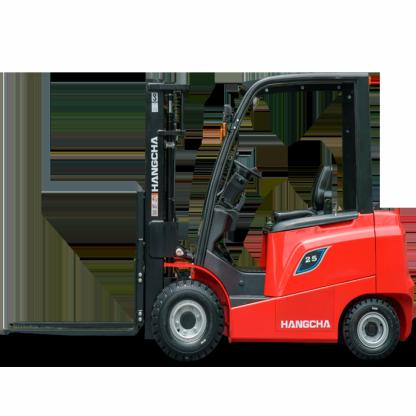forklift: (2, 70, 416, 362)
